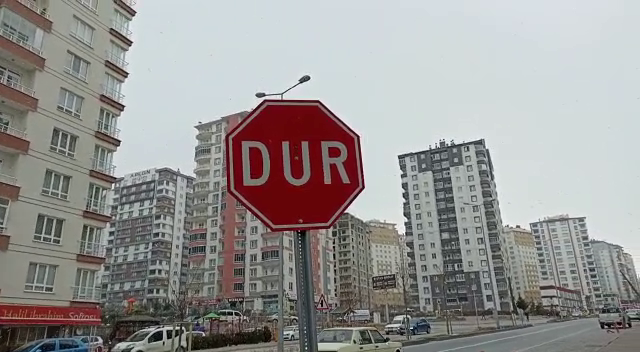stop: (220, 94, 371, 237)
